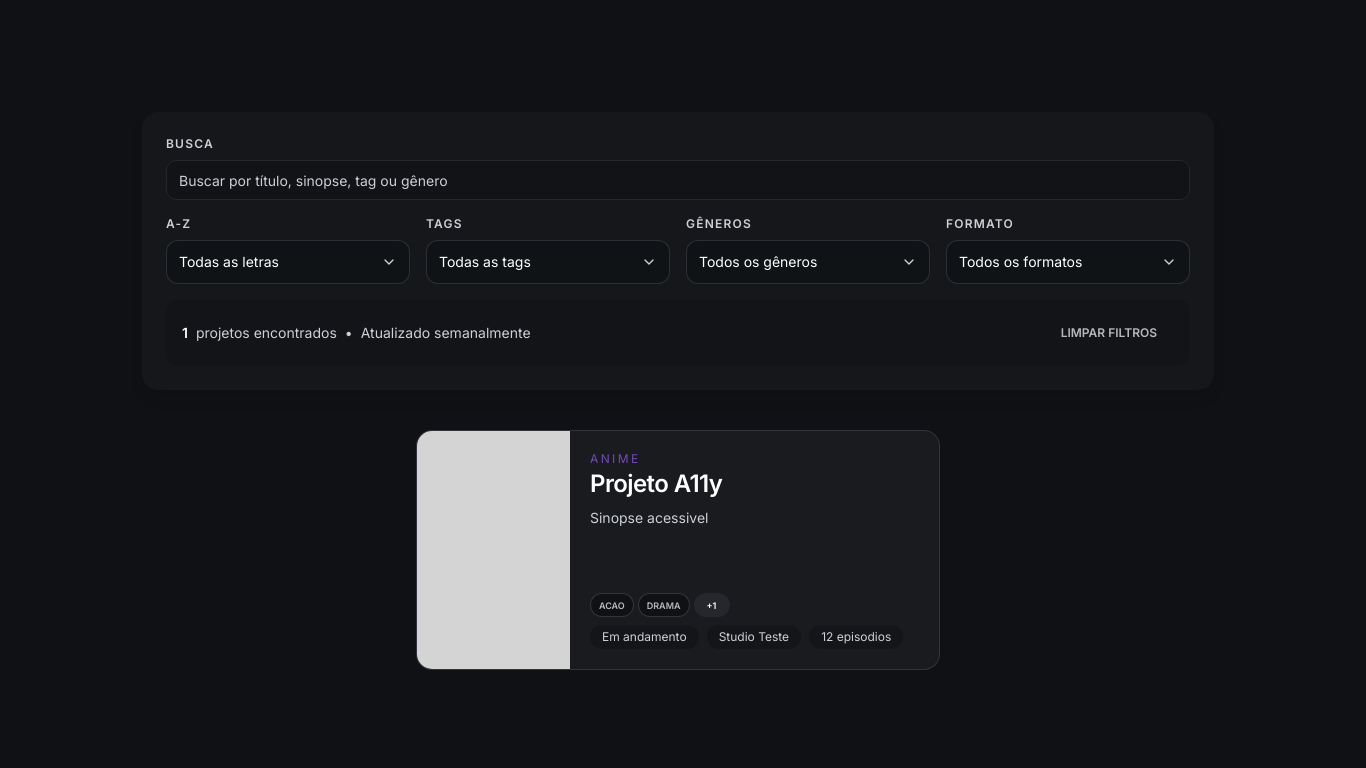
Scenario: Projects accessibility › mantem apenas um filtro aberto por vez no desktop
Click the dropdown named "Filtrar por tag" at (548, 262), box x1=426 y1=240 x2=670 y2=284
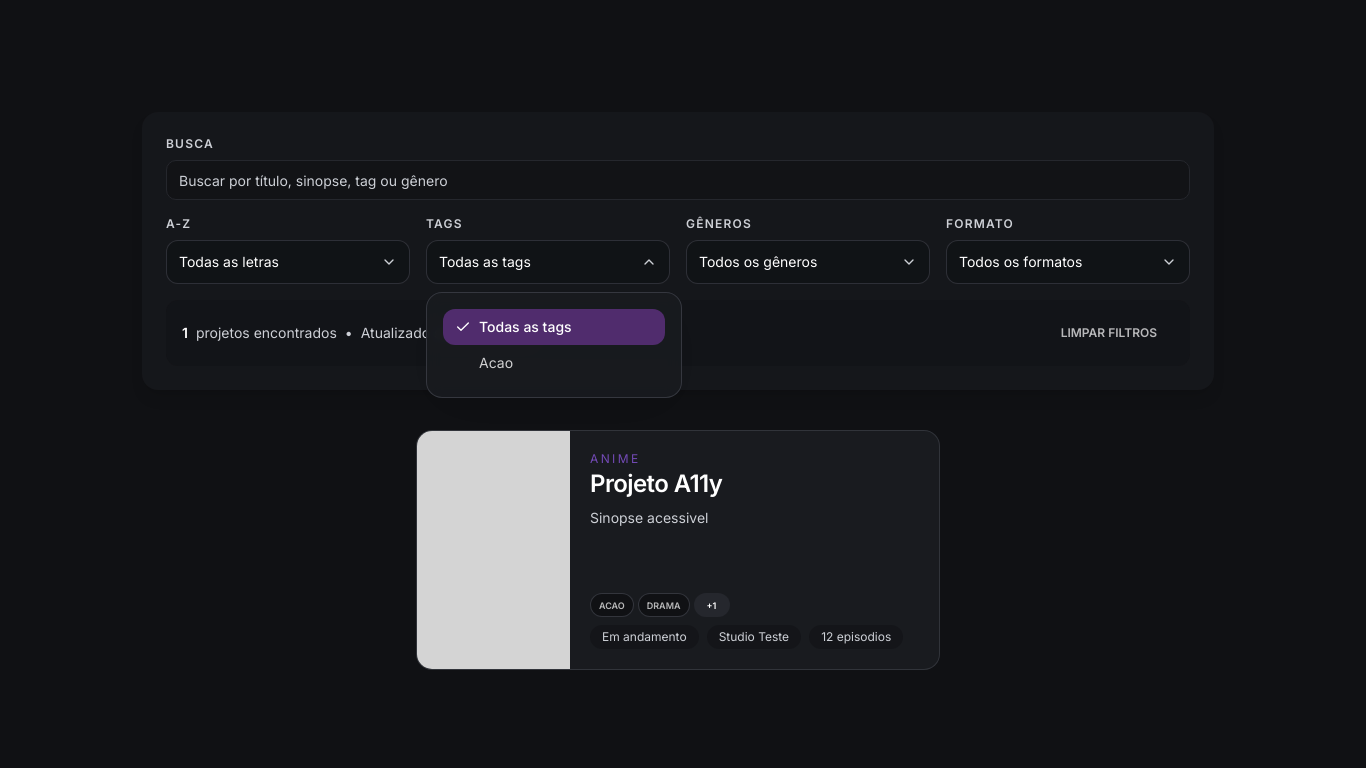
Now the option "Acao" is shown, box x1=443 y1=345 x2=665 y2=381
Click the dropdown labelled "Todos os gêneros" at (808, 262), box x1=686 y1=240 x2=930 y2=284
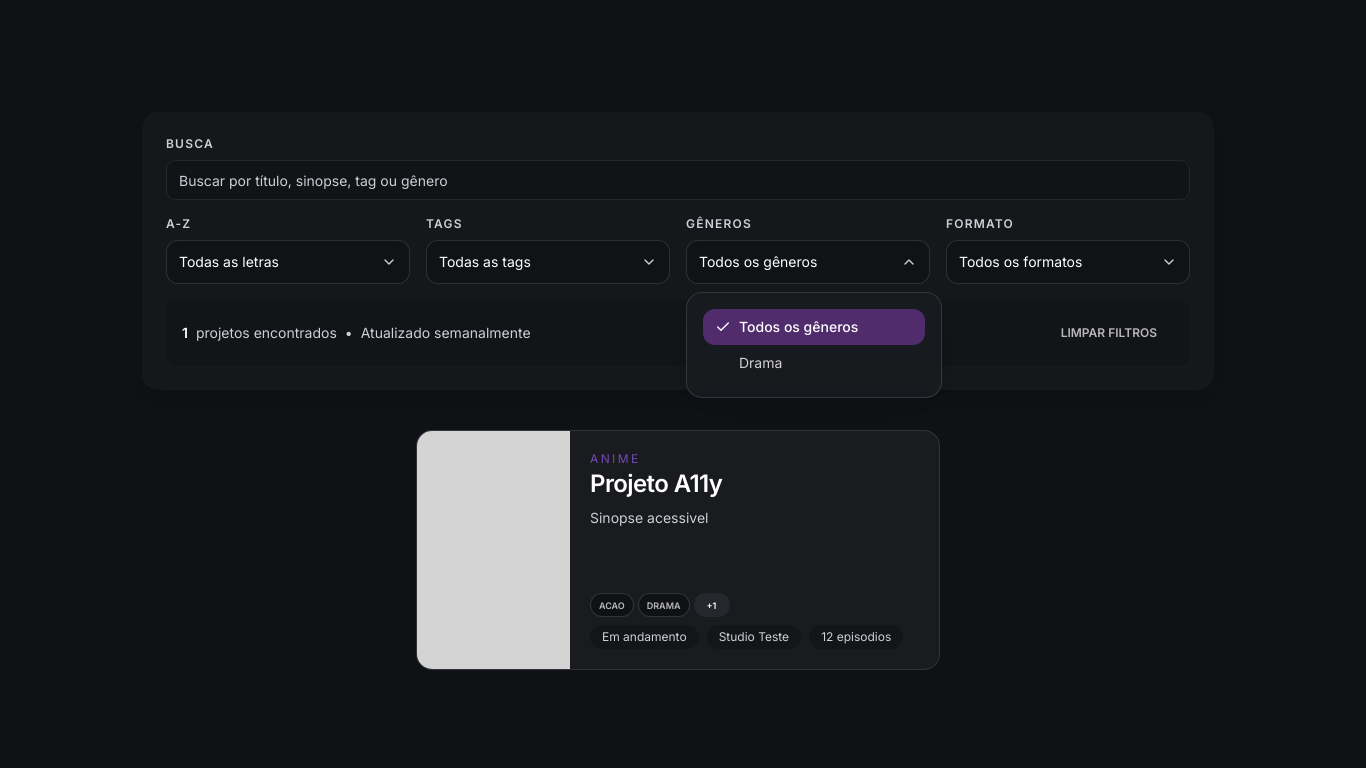
Now the option "Drama" is shown, box x1=703 y1=345 x2=925 y2=381
